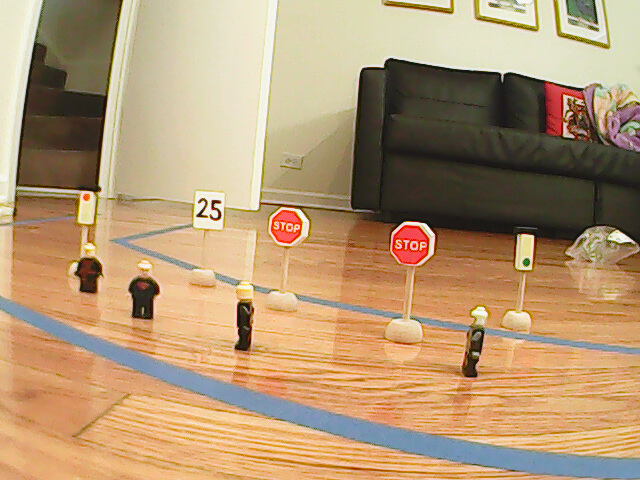Green Traffic Light: (512, 224, 537, 271)
Person: (460, 305, 489, 379), (128, 261, 161, 320), (74, 242, 106, 293), (234, 282, 257, 352)
Red Traffic Light: (76, 186, 96, 224)
Speed Limit 25: (192, 190, 224, 229)
Stop Sign: (386, 219, 434, 270), (267, 207, 310, 252)
